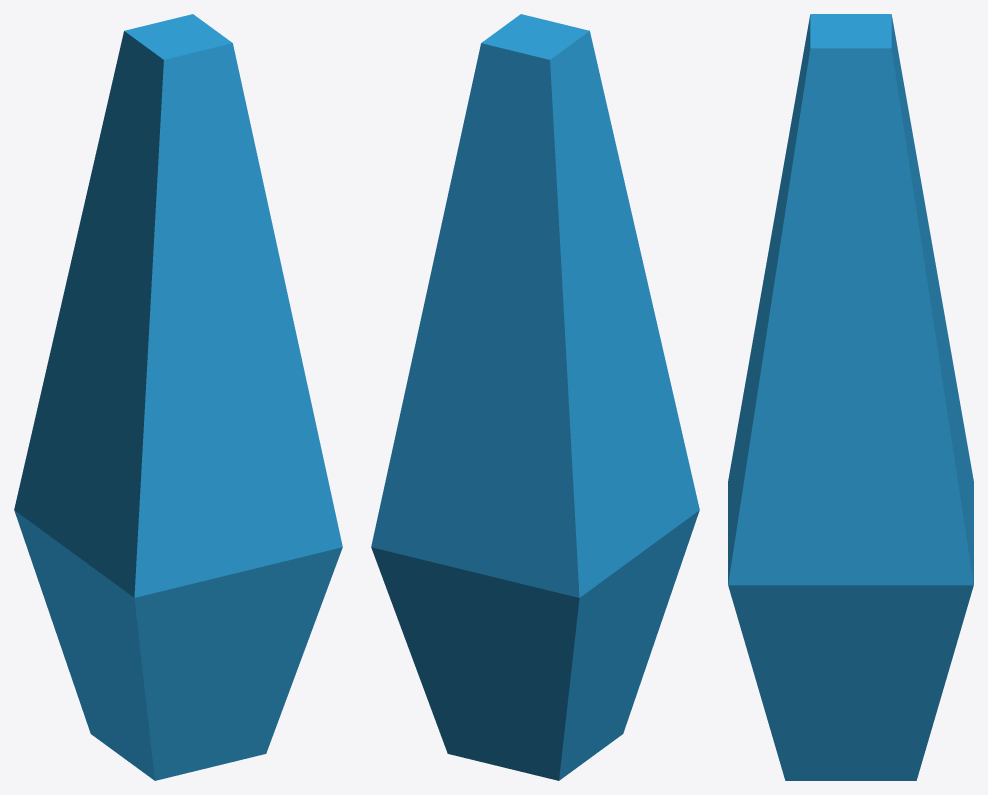
The model's file is Tear.fbx.
The picture shows the model from 3 angles, left to right: view 1: azimuth 30°, elevation 25°; view 2: azimuth 150°, elevation 25°; view 3: azimuth 270°, elevation 25°; orthographic projection. The views are drawn at different scales.
Parts seen in each view (by area): view 1: Tear; view 2: Tear; view 3: Tear.
Boxes of the visible parts, <box> form: Tear: <box>14,14,342,780</box>; Tear: <box>371,14,699,780</box>; Tear: <box>728,14,973,780</box>.
Bounding box in the file's own units: 1.57 × 1.57 × 5.09.
